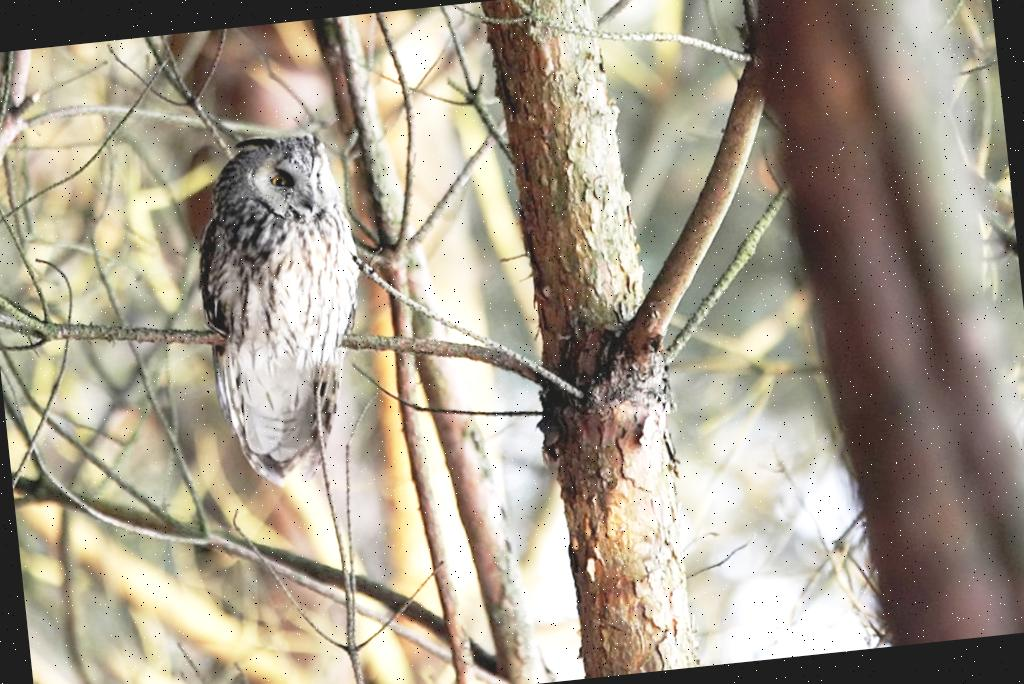Owl: (173, 133, 379, 500)
